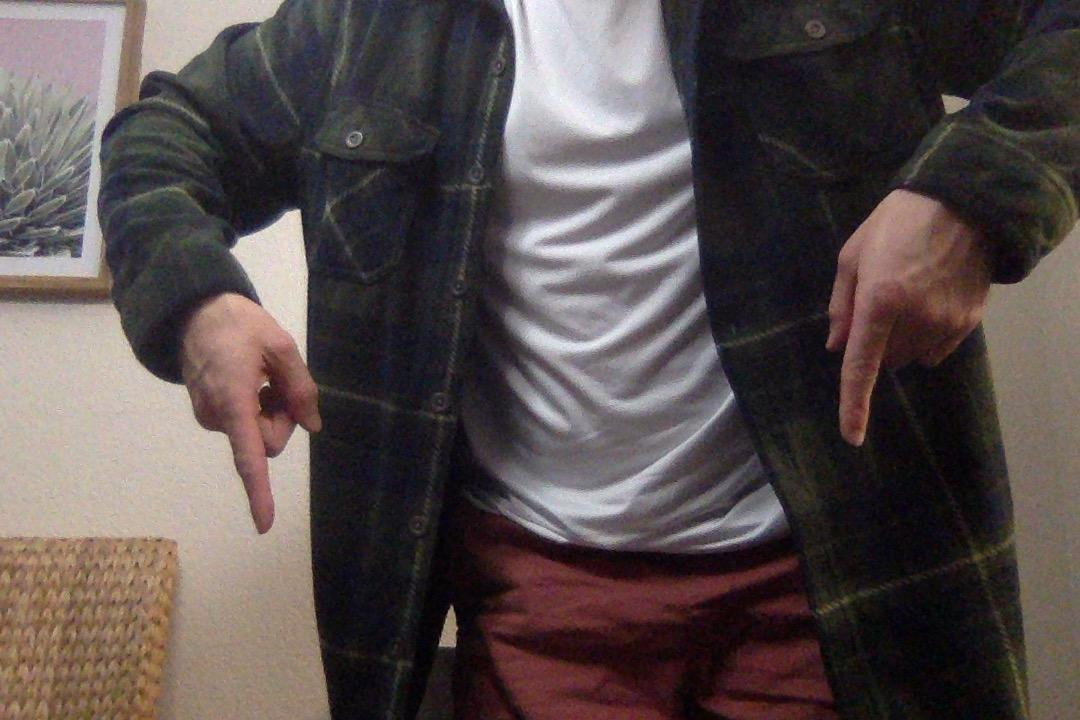Point-Down: (825, 187, 998, 448), (163, 310, 330, 531)
